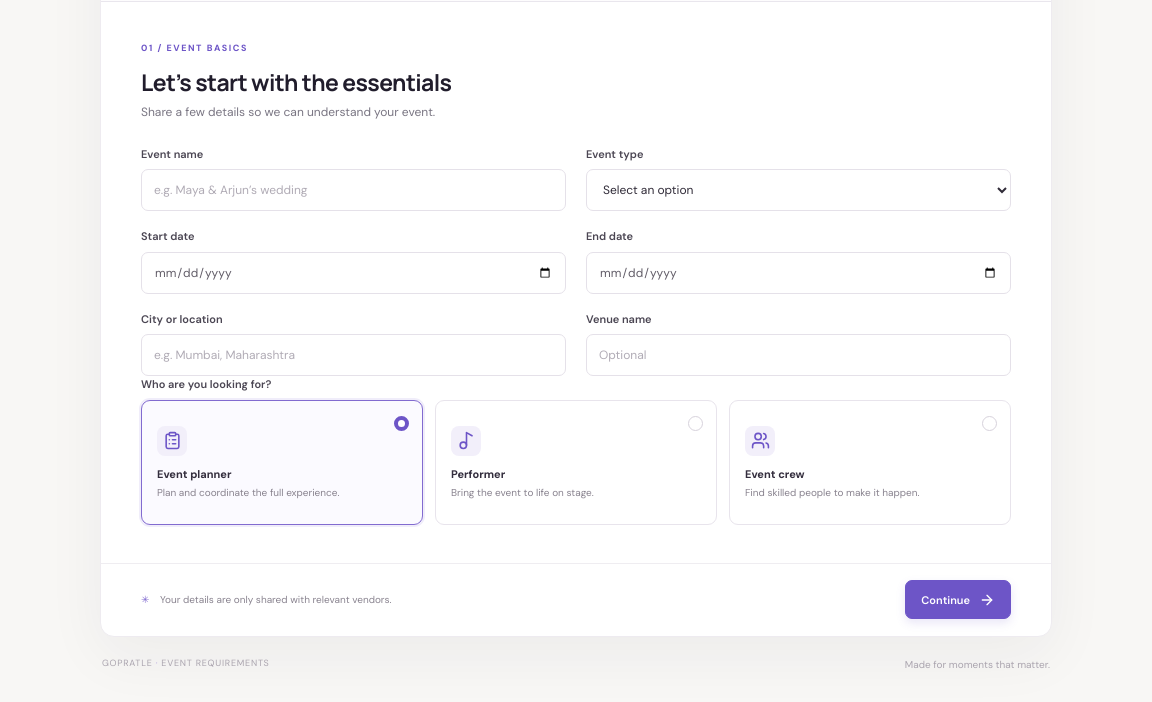
requirement wizard › validates basics, advances, and preserves entered event values
(page scrolled)
Click the button "Continue" at (958,600), box [905,580,1011,620]
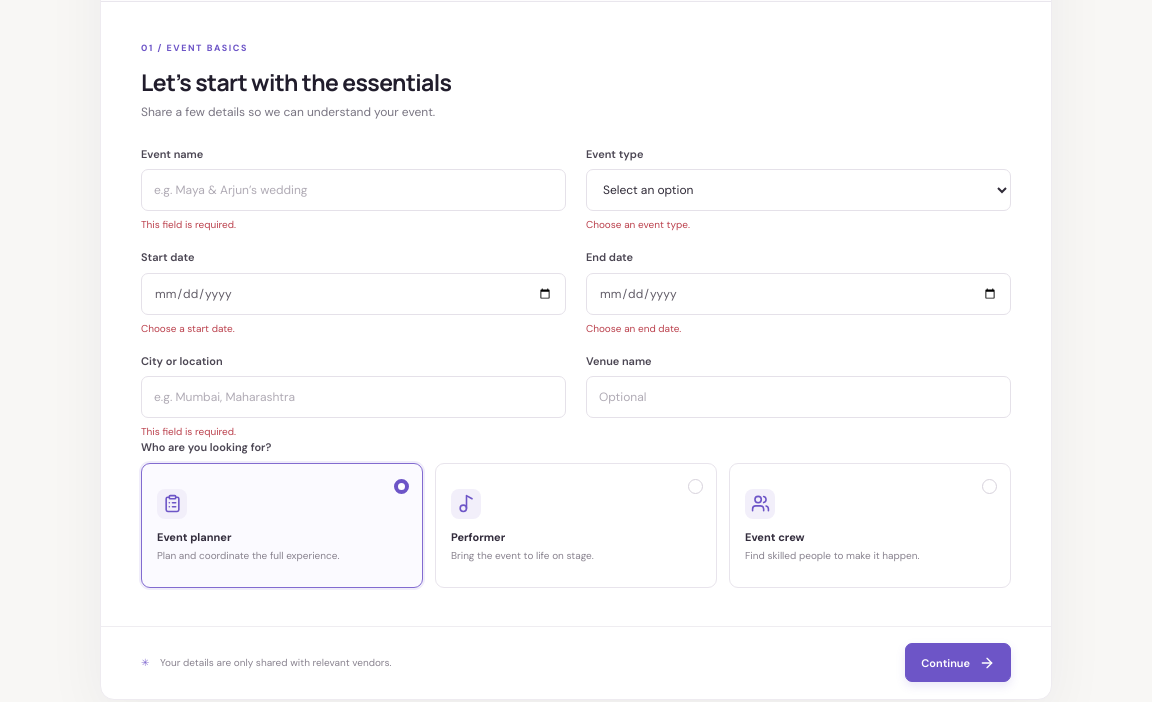
Now the text "This field is required." below "Event name" is shown, box [141,218,236,232]
Type "Garden wedding" into the field named "Event name" at (354,190), box [141,170,566,212]
Select "Wedding" in the dropdown named "Event type" at (798,190), box [586,170,1011,212]
Type "2027-08-01" into the date field named "Start date" at (354,294), box [141,273,566,315]
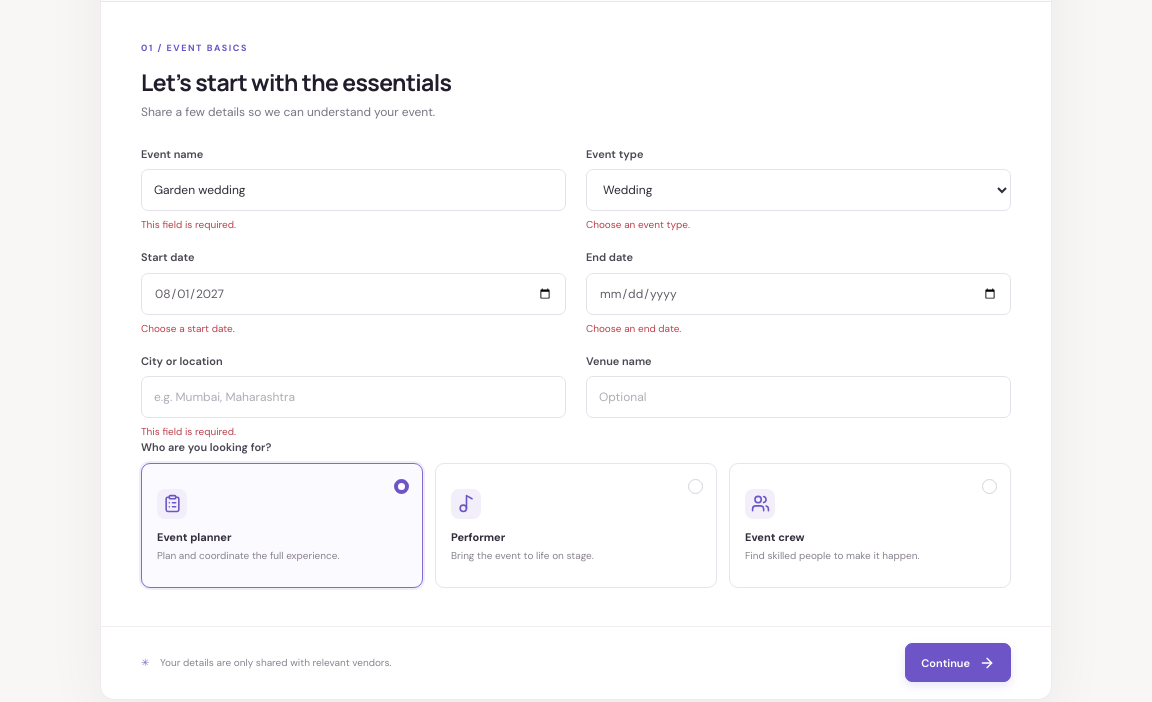
Type "2027-08-01" into the date field named "End date" at (798,294), box [586,273,1011,315]
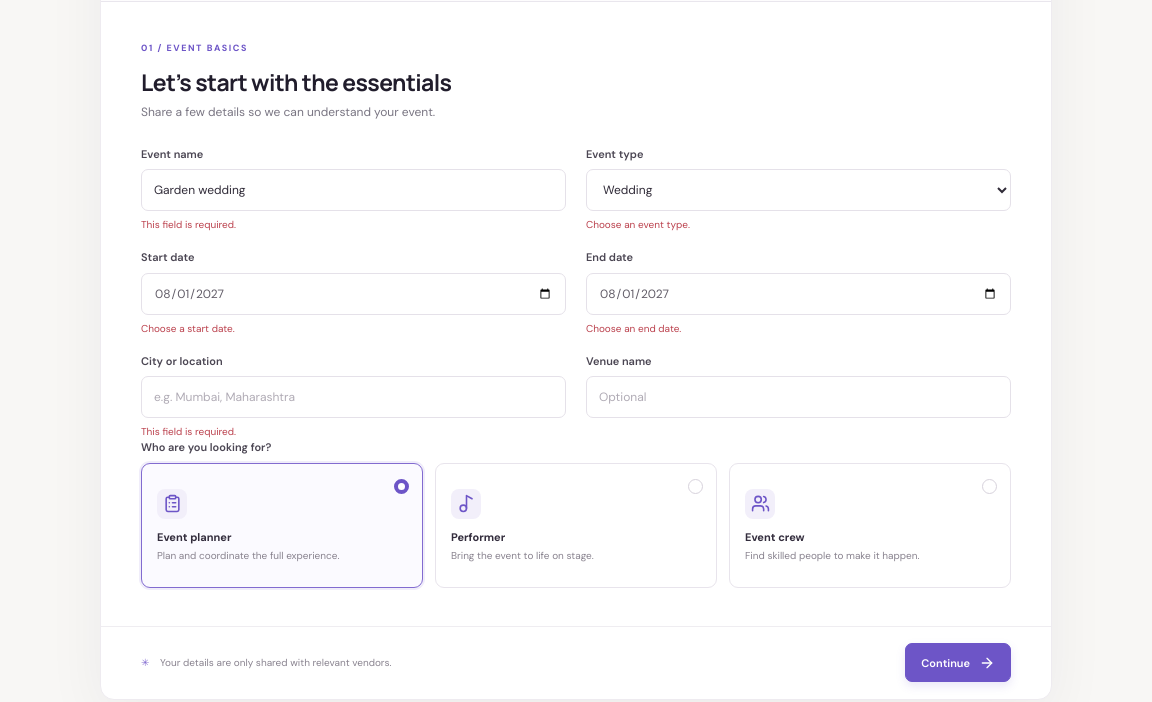
Type "Pune" into the field named "City or location" at (354,398), box [141,376,566,418]
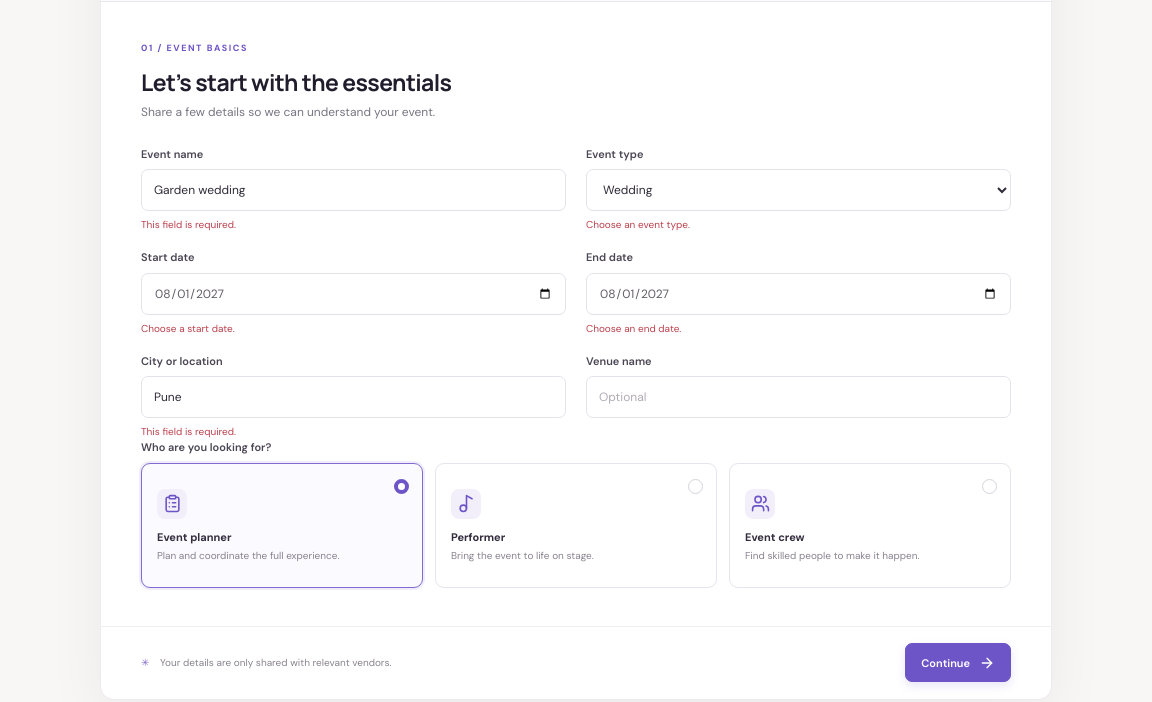
Click the button "Continue" at (958,663), box [905,644,1011,682]
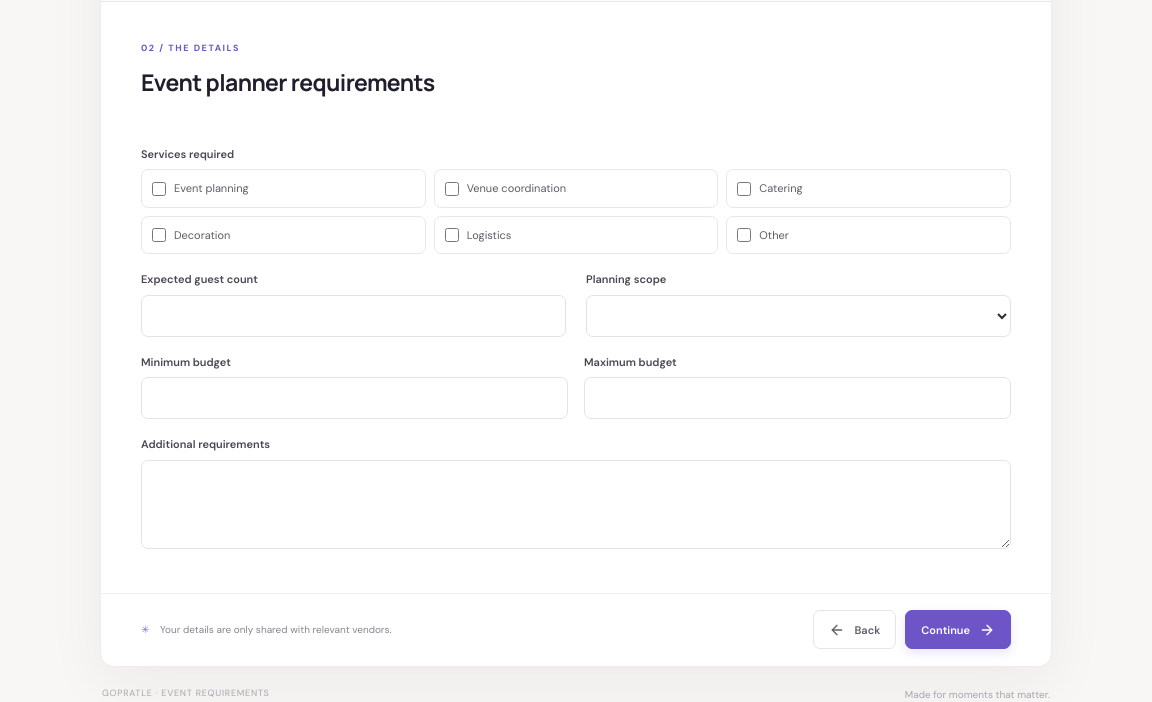
Now the heading "Event planner requirements" is shown, box [141,66,435,98]
Click the button "Back" at (855,630), box [813,610,896,650]
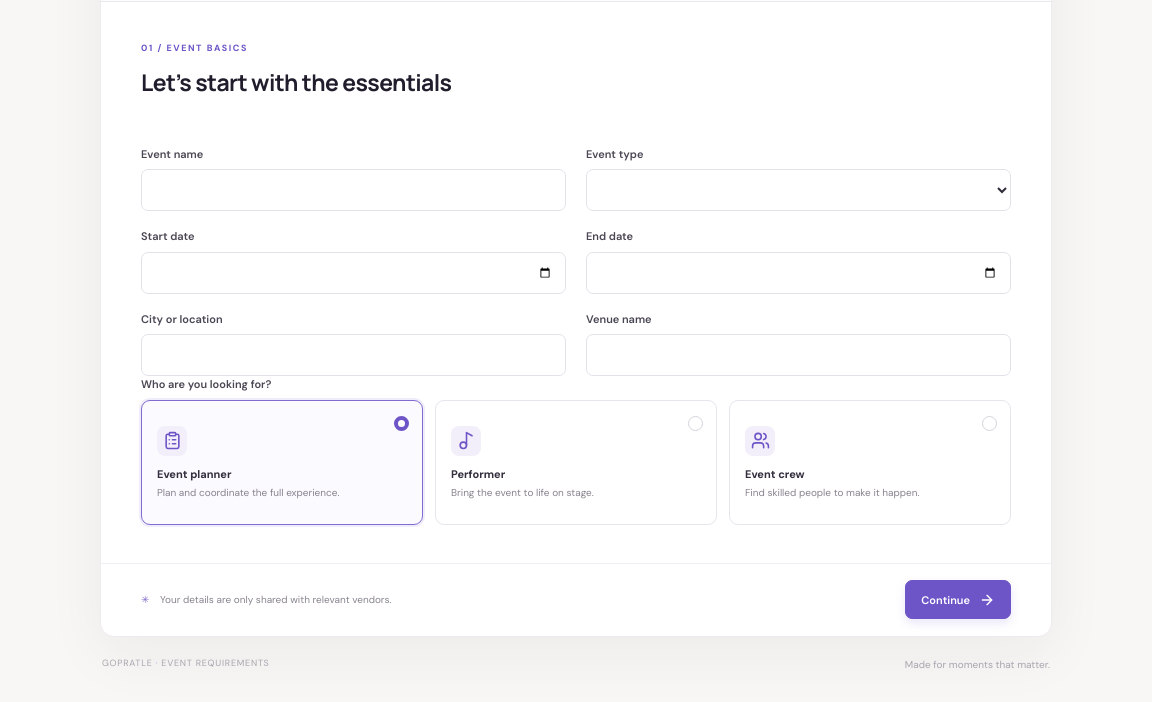
Now the field named "Event name" holds "Garden wedding", box [141,170,566,212]
